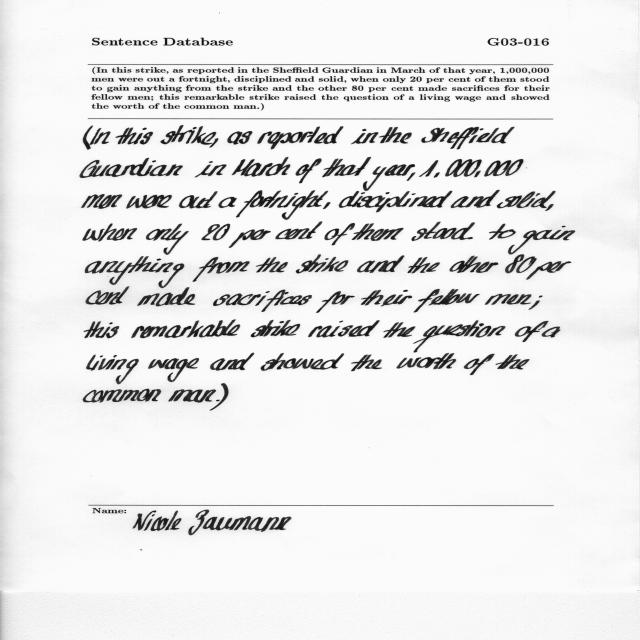word: (86, 256, 185, 288), (413, 320, 505, 353), (236, 190, 328, 220), (339, 191, 453, 213), (213, 290, 312, 312), (422, 127, 515, 150), (258, 126, 344, 150), (80, 158, 183, 178), (419, 159, 524, 178), (132, 320, 240, 338), (508, 226, 575, 254), (86, 355, 139, 384), (414, 289, 480, 312), (261, 353, 344, 371), (193, 257, 250, 282), (363, 164, 415, 191), (146, 223, 189, 255), (161, 125, 219, 148), (308, 320, 380, 338), (148, 358, 199, 382), (411, 222, 475, 241), (232, 157, 291, 177), (138, 287, 196, 306), (296, 255, 349, 274), (497, 191, 556, 208), (322, 157, 371, 177), (83, 224, 137, 242), (397, 353, 456, 369), (352, 223, 403, 241), (451, 190, 500, 208), (357, 255, 405, 273), (316, 291, 355, 313), (526, 261, 571, 280), (450, 256, 499, 273), (251, 320, 300, 337), (276, 222, 322, 240), (361, 290, 412, 306), (229, 229, 271, 248), (83, 389, 140, 403), (86, 287, 130, 305), (210, 353, 254, 371), (515, 321, 549, 342), (324, 223, 355, 245), (83, 126, 111, 150), (168, 389, 216, 403), (179, 192, 218, 209), (464, 354, 495, 375), (296, 159, 322, 184), (505, 255, 537, 274), (82, 194, 122, 209), (126, 195, 172, 208), (84, 322, 119, 339), (379, 127, 412, 144), (115, 128, 147, 145), (407, 257, 440, 273), (351, 355, 382, 372), (210, 384, 229, 411), (195, 161, 227, 177), (384, 322, 416, 338), (496, 355, 530, 370), (485, 294, 531, 305), (256, 257, 288, 272), (202, 224, 231, 240), (489, 224, 516, 240), (351, 129, 378, 144), (136, 389, 161, 402), (529, 295, 543, 310), (218, 197, 237, 208), (542, 327, 561, 338), (228, 132, 243, 145), (140, 132, 153, 145), (239, 131, 252, 144), (407, 172, 416, 181), (545, 204, 554, 211), (323, 202, 330, 209)
